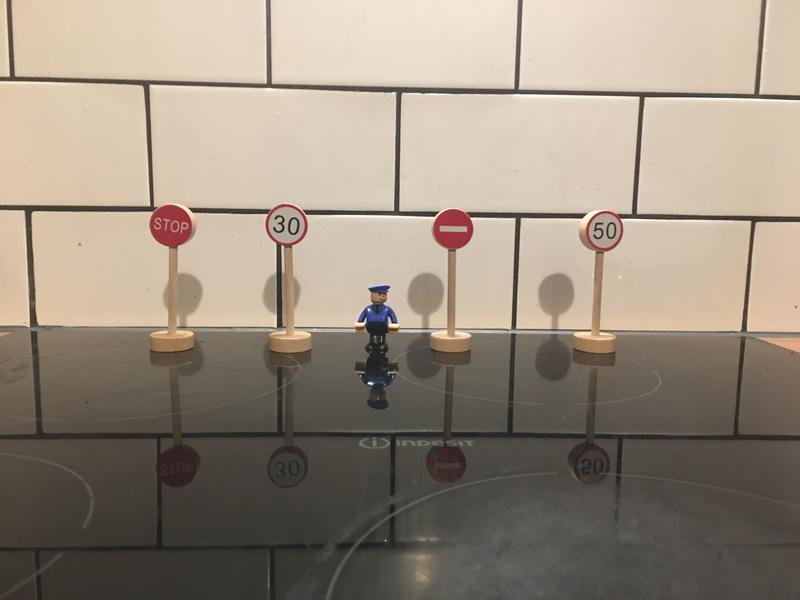Traffic_Sign_30: (267, 203, 308, 245)
Traffic_Sign_50: (587, 209, 622, 251)
Traffic_Sign_No_Entry: (434, 209, 474, 249)
Traffic_Sign_Stop: (150, 205, 193, 245)
person: (356, 286, 401, 354)
